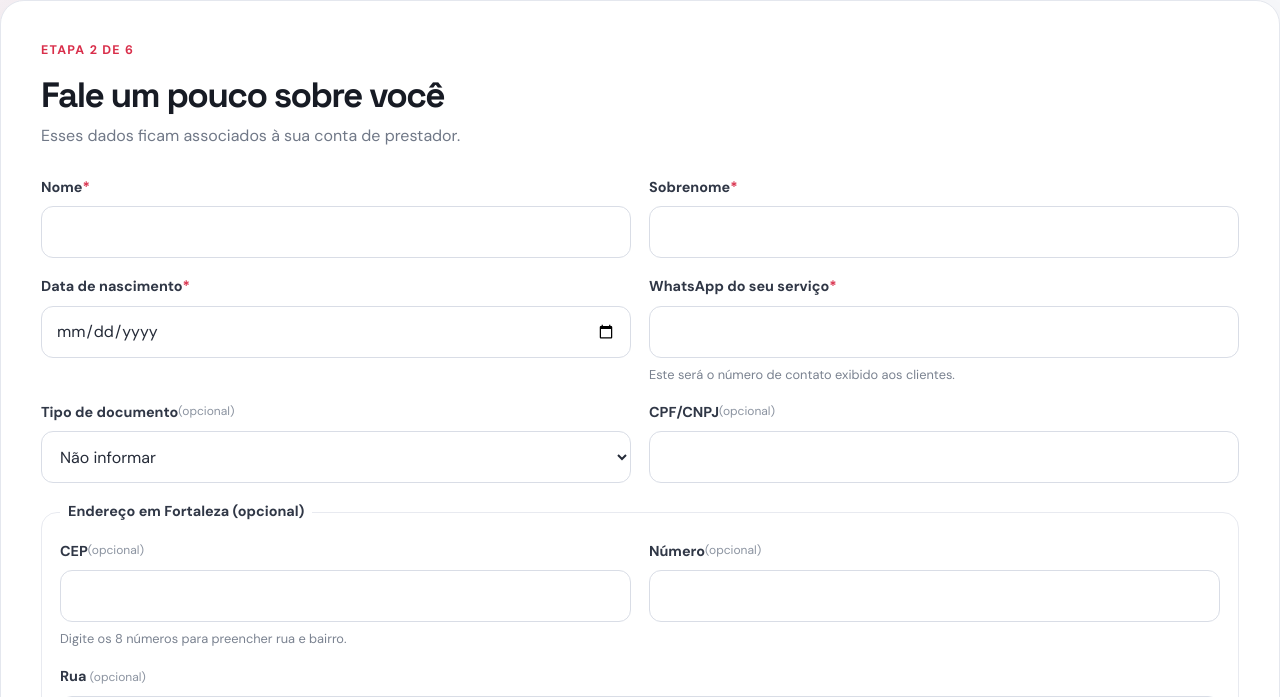
Scenario: provider profile step › looks up a complete CEP and keeps the address editable even outside Fortaleza
The width and height of the screenshot is (1280, 697).
Type "01310100" into the field labelled "CEP (opcional)". click: [346, 596]
box: [60, 570, 631, 622]
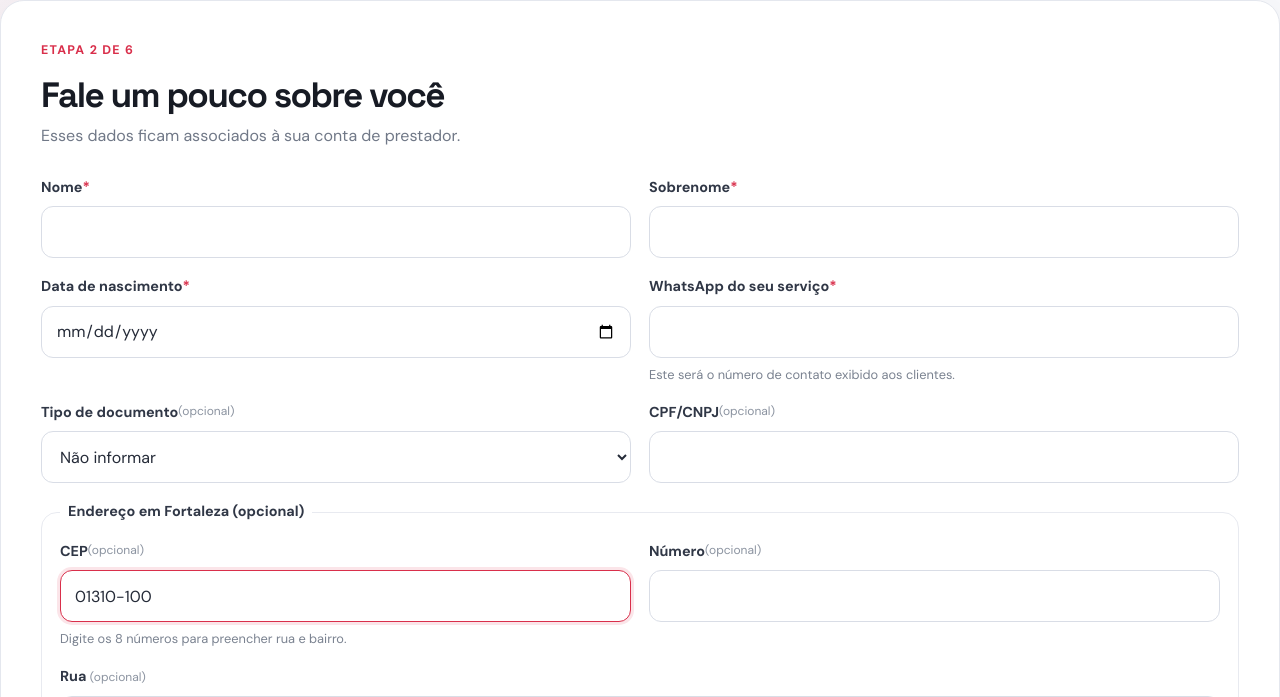
Now the field labelled "CEP (opcional)" holds "01310-100", box [60, 570, 631, 622]
